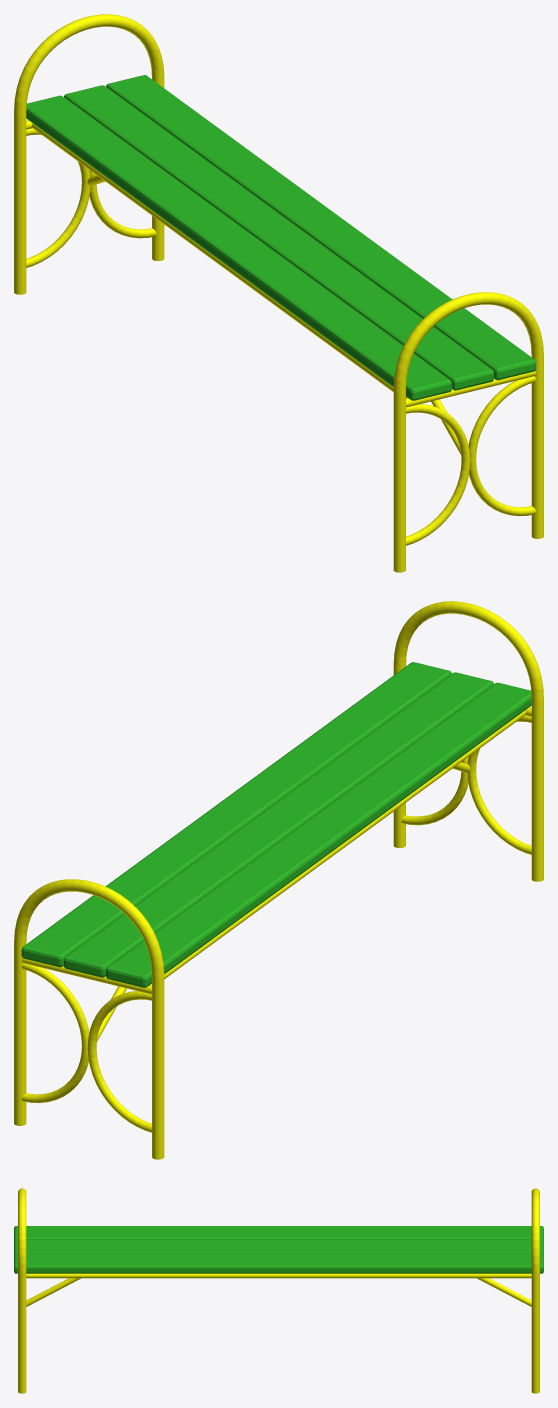
3 renders of one model, top to bottom at view 1: azimuth 30°, elevation 25°; view 2: azimuth 150°, elevation 25°; view 3: azimuth 270°, elevation 25°, orthographic. The views are drawn at different scales.
Parts seen in each view (by area): view 1: B_06; view 2: B_06; view 3: B_06.
Part boxes in pixels (box(x1,y1,x2,y2)): B_06: box(14, 14, 543, 572); B_06: box(14, 601, 543, 1159); B_06: box(14, 1188, 543, 1393).
Size of the model in its own units: 38.8 by 64.37 by 177.
